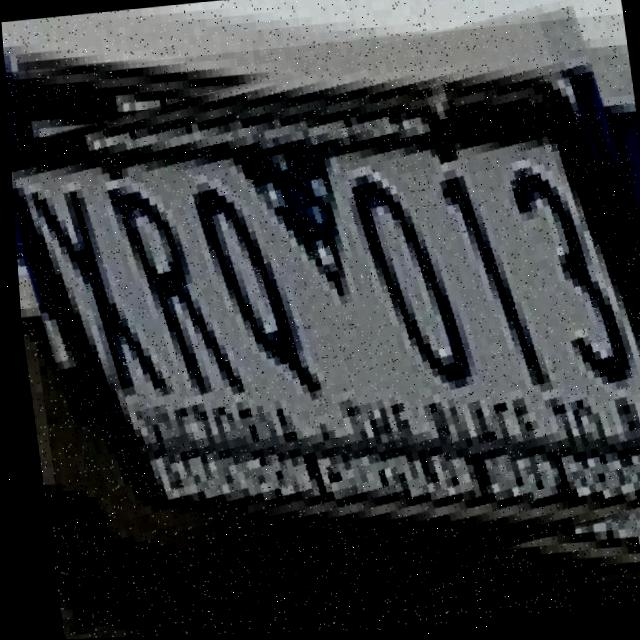LicensePlate: (2, 16, 640, 628)
